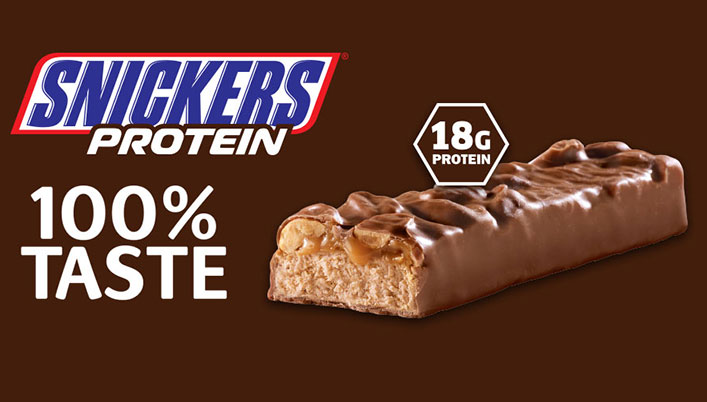snickers: (23, 58, 328, 127)
